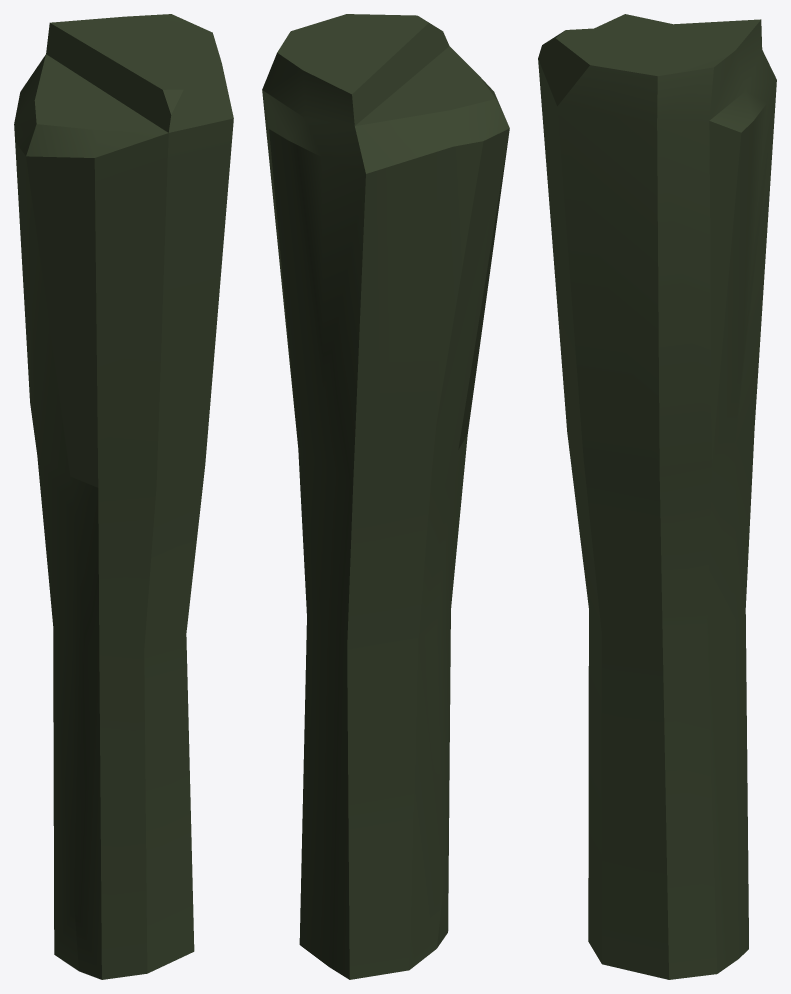
The model's file is EA_Pin_01b.glb.
3 renders of one model, left to right at view 1: azimuth 30°, elevation 25°; view 2: azimuth 150°, elevation 25°; view 3: azimuth 270°, elevation 25°, orthographic. The views are drawn at different scales.
Parts seen in each view (by area): view 1: EA_Pin_01b; view 2: EA_Pin_01b; view 3: EA_Pin_01b.
Boxes of the visible parts, left/top/right/bottom form: EA_Pin_01b: left=14, top=14, right=233, bottom=979; EA_Pin_01b: left=262, top=14, right=509, bottom=979; EA_Pin_01b: left=538, top=14, right=776, bottom=979.
Size of the model in its own units: 0.2126 by 0.8746 by 0.2042.
Materials: 1 (1 with a texture image).
